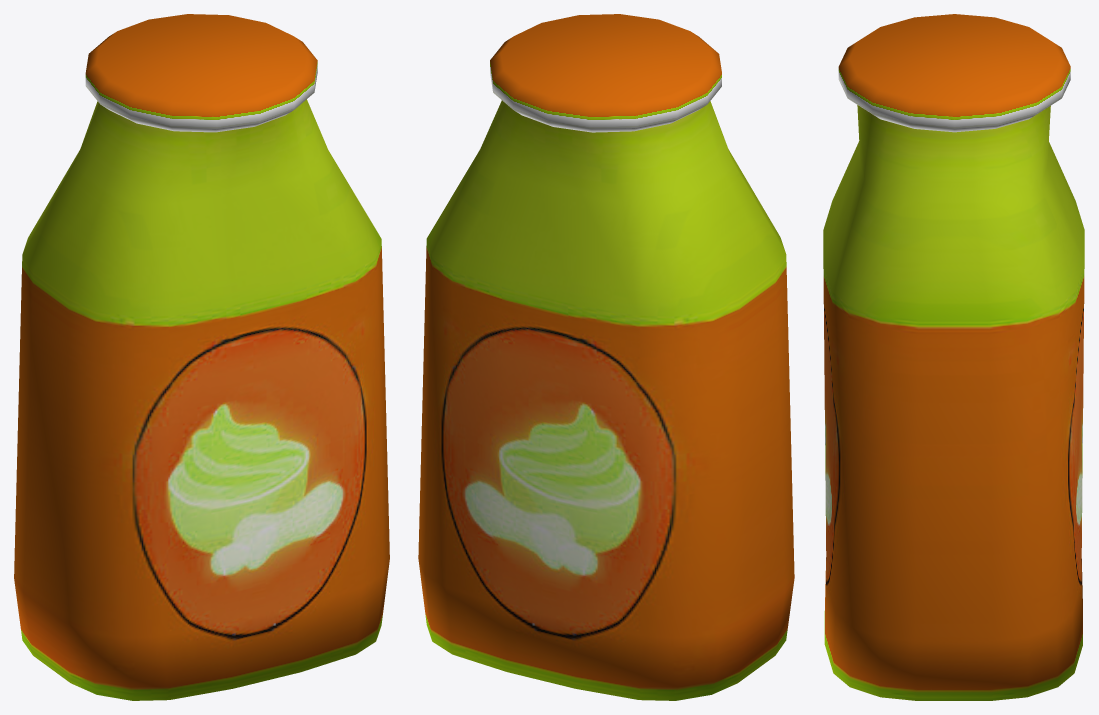
3 renders of one model, left to right at view 1: azimuth 30°, elevation 25°; view 2: azimuth 150°, elevation 25°; view 3: azimuth 270°, elevation 25°, orthographic.
Visible parts, largest first — view 1: 4-4; view 2: 4-4; view 3: 4-4.
Boxes of the visible parts, box(x1,y1,x2,y2) form: 4-4: box(14, 14, 389, 700); 4-4: box(418, 14, 794, 700); 4-4: box(823, 14, 1084, 700).
Bounding box in the file's own units: 8.07 × 14.09 × 5.79.
